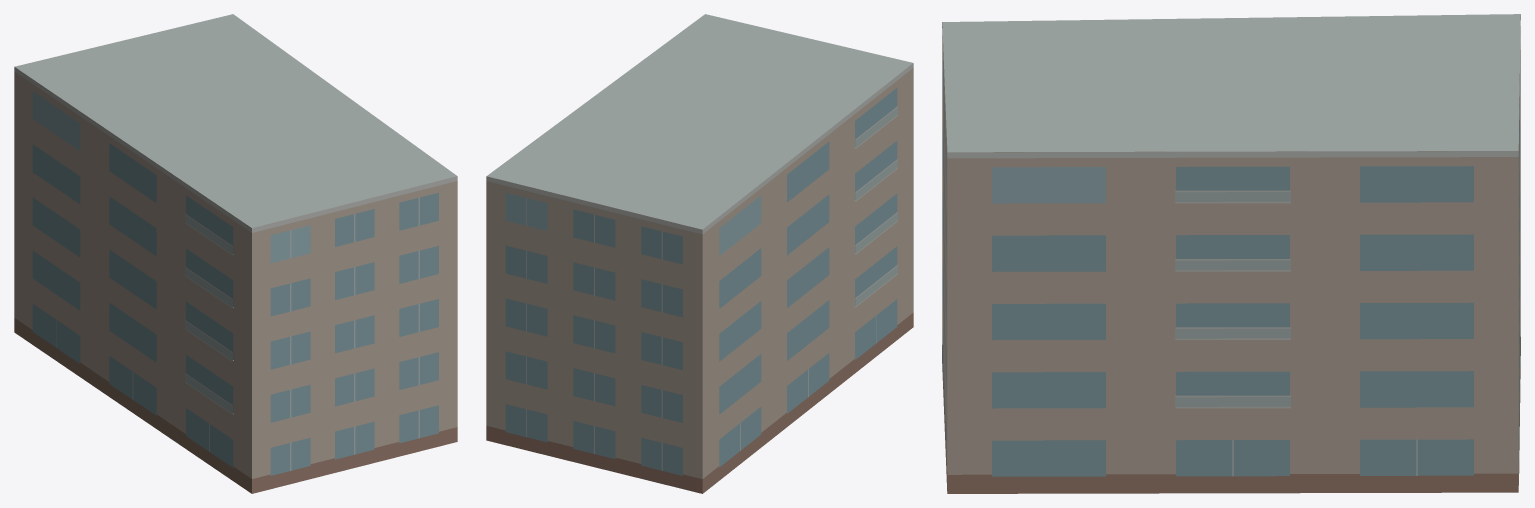
Rendered from survey-upis-32644386.glb.
3 views of the same model, side by side, from view 1: azimuth 30°, elevation 25°; view 2: azimuth 150°, elevation 25°; view 3: azimuth 270°, elevation 25° (orthographic). The views are drawn at different scales.
Parts seen in each view (by area): view 1: survey-upis-32644386.tmp; view 2: survey-upis-32644386.tmp; view 3: survey-upis-32644386.tmp.
Boxes of the visible parts, bbox=[...] form: survey-upis-32644386.tmp: bbox=[14, 14, 457, 493]; survey-upis-32644386.tmp: bbox=[486, 14, 913, 493]; survey-upis-32644386.tmp: bbox=[942, 14, 1520, 493].
Size of the model in its own units: 11.81 by 13.6 by 20.88.
